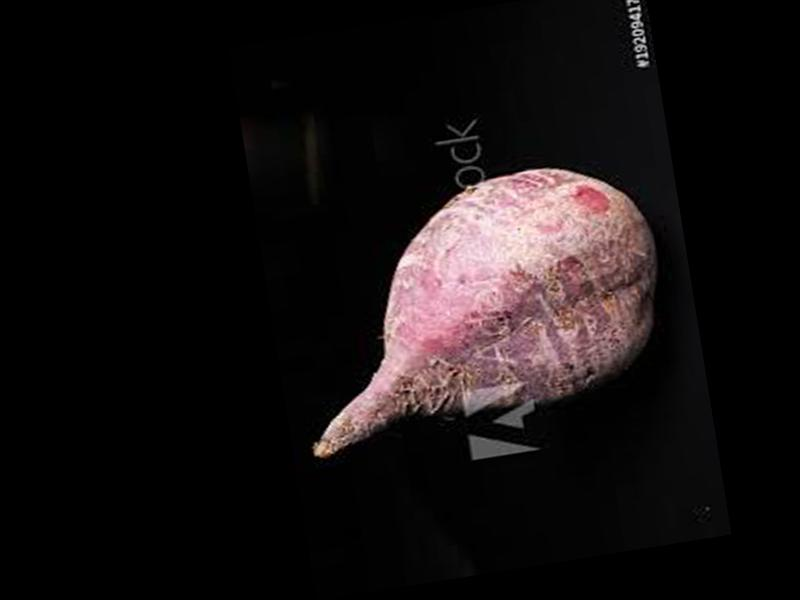Beet: (275, 151, 675, 456)
